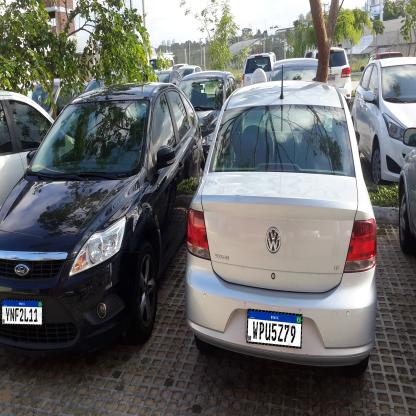PlacaM: (247, 308, 302, 349), (1, 299, 43, 326)
